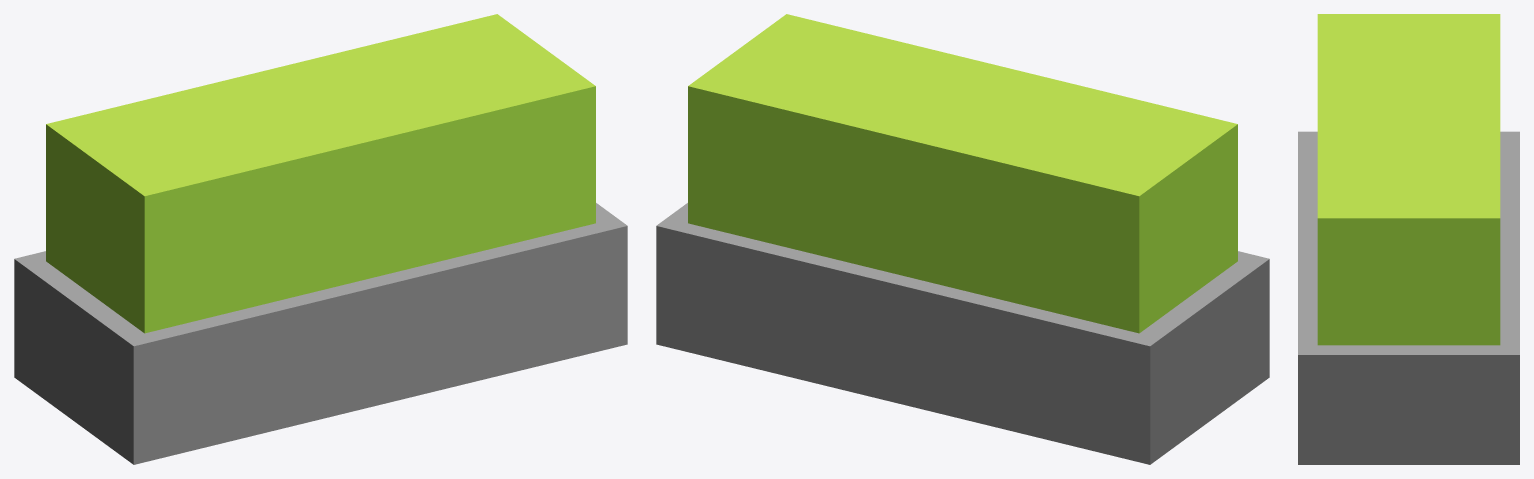
File: Planter_02.fbx
3 views of the same model, side by side, from view 1: azimuth 30°, elevation 25°; view 2: azimuth 150°, elevation 25°; view 3: azimuth 270°, elevation 25° (orthographic). The views are drawn at different scales.
Parts seen in each view (by area): view 1: Planter_02; view 2: Planter_02; view 3: Planter_02.
Boxes of the visible parts, bbox=[...] form: Planter_02: bbox=[14, 14, 627, 464]; Planter_02: bbox=[656, 14, 1269, 464]; Planter_02: bbox=[1298, 14, 1519, 464].
Size of the model in its own units: 2.17 by 1.07 by 0.909.
